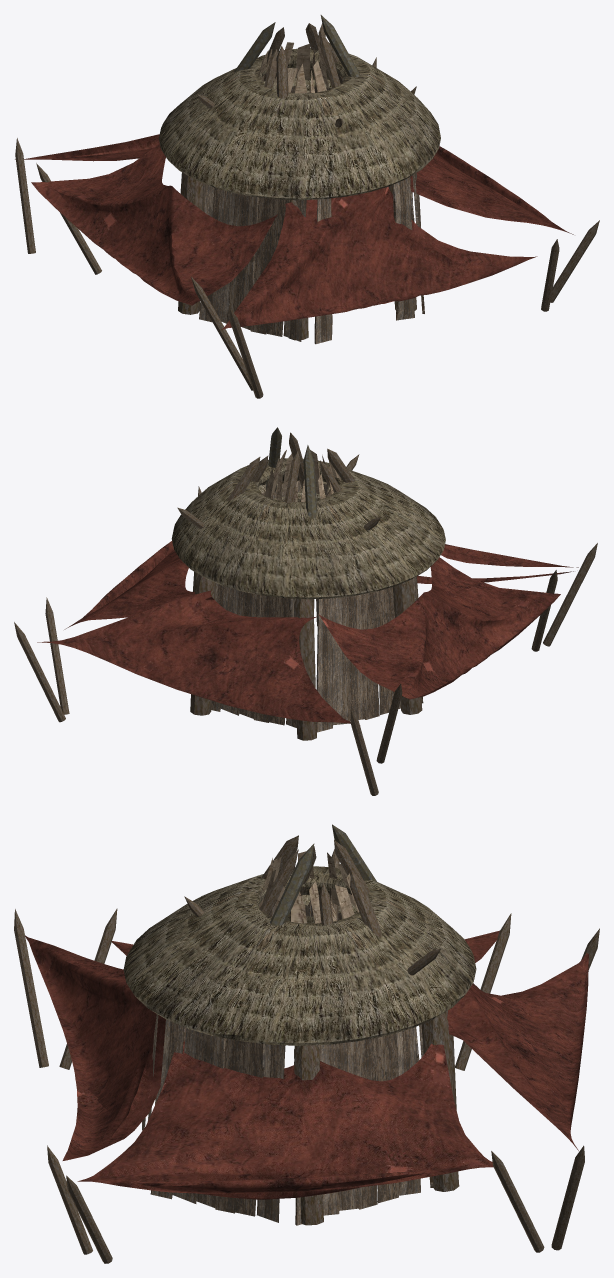
The model's file is casa_paja_a.glb.
The picture shows the model from 3 angles, top to bottom: view 1: azimuth 30°, elevation 25°; view 2: azimuth 150°, elevation 25°; view 3: azimuth 270°, elevation 25°; orthographic projection. The views are drawn at different scales.
Visible parts, largest first — view 1: casa_paja_a; view 2: casa_paja_a; view 3: casa_paja_a.
Part boxes in pixels (box(x1,y1,x2,y2)): casa_paja_a: box(15, 15, 599, 398); casa_paja_a: box(14, 427, 597, 795); casa_paja_a: box(14, 824, 599, 1263).
Size of the model in its own units: 8.3 by 5.27 by 8.49.
Materials: 6 (6 with a texture image).
